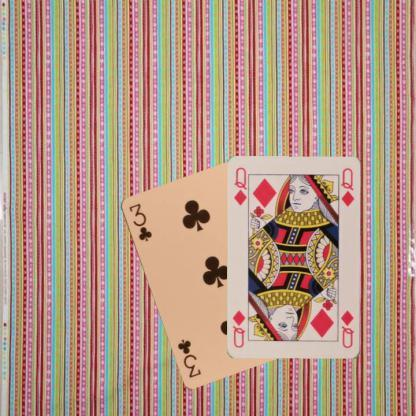3c: (126, 201, 153, 243)
Qd: (232, 166, 250, 210), (338, 308, 356, 350)
